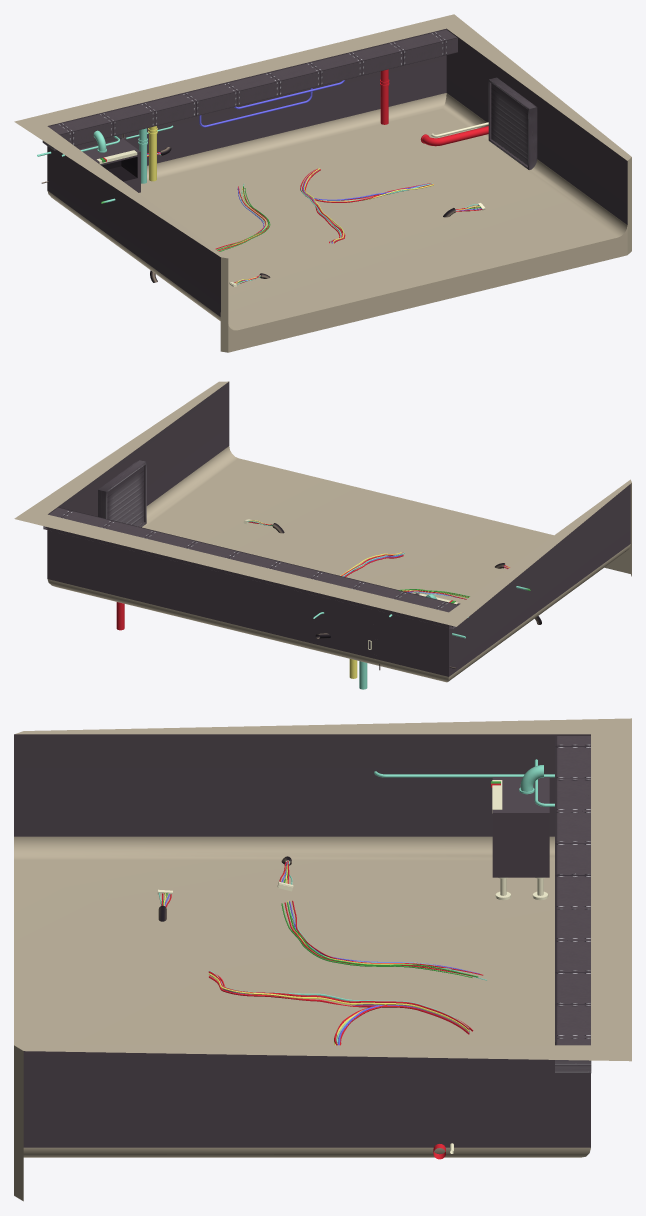
The model's file is SM_room2.fbx.
The picture shows the model from 3 angles, top to bottom: view 1: azimuth 30°, elevation 25°; view 2: azimuth 150°, elevation 25°; view 3: azimuth 270°, elevation 25°; orthographic projection. The views are drawn at different scales.
Visible parts, largest first — view 1: polySurface4; view 2: polySurface4; view 3: polySurface4.
Boxes of the visible parts, x1=… form: polySurface4: x1=14, y1=14, x2=631, y2=352; polySurface4: x1=14, y1=381, x2=631, y2=689; polySurface4: x1=14, y1=718, x2=631, y2=1201.
Size of the model in its own units: 128 by 28.03 by 97.41.
